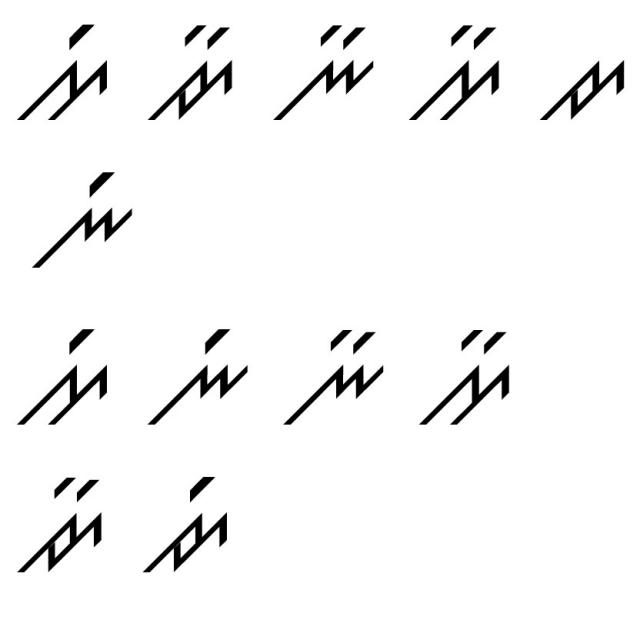ja: (538, 50, 628, 128)
jan: (139, 21, 248, 123)
nyan: (263, 18, 379, 131), (280, 321, 388, 432)
nyang: (23, 158, 138, 275), (139, 322, 254, 435)
san: (412, 302, 512, 446), (14, 464, 107, 592), (406, 13, 506, 125)
sang: (135, 467, 240, 584), (16, 322, 112, 430), (18, 15, 112, 124)
